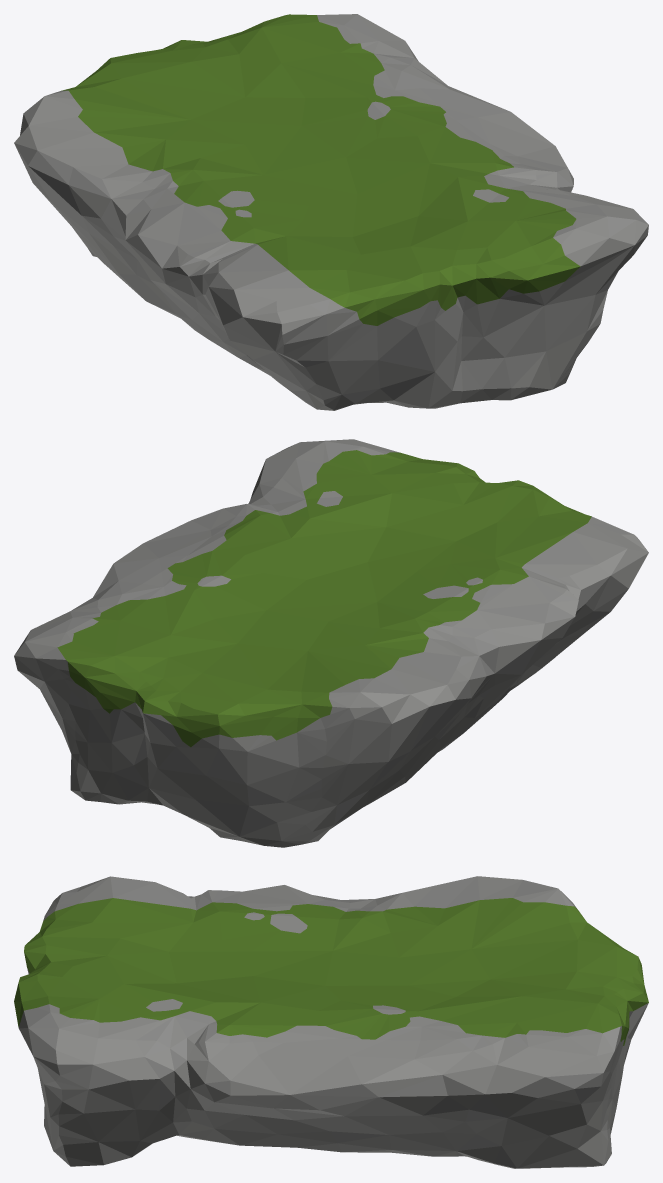
File: Cavern_FloorGrass_Wide_Straight-01.fbx
3 renders of one model, top to bottom at view 1: azimuth 30°, elevation 25°; view 2: azimuth 150°, elevation 25°; view 3: azimuth 270°, elevation 25°, orthographic. The views are drawn at different scales.
Visible parts, largest first — view 1: Cavern_FloorGrass_Wide_Straight-01; view 2: Cavern_FloorGrass_Wide_Straight-01; view 3: Cavern_FloorGrass_Wide_Straight-01.
Boxes of the visible parts, x1,y1,x2,y2 form: Cavern_FloorGrass_Wide_Straight-01: (14,14,648,410); Cavern_FloorGrass_Wide_Straight-01: (14,439,648,847); Cavern_FloorGrass_Wide_Straight-01: (14,876,648,1168).
Bounding box in the file's own units: 1332 × 519 × 1799.
1 material, 1 textured.
